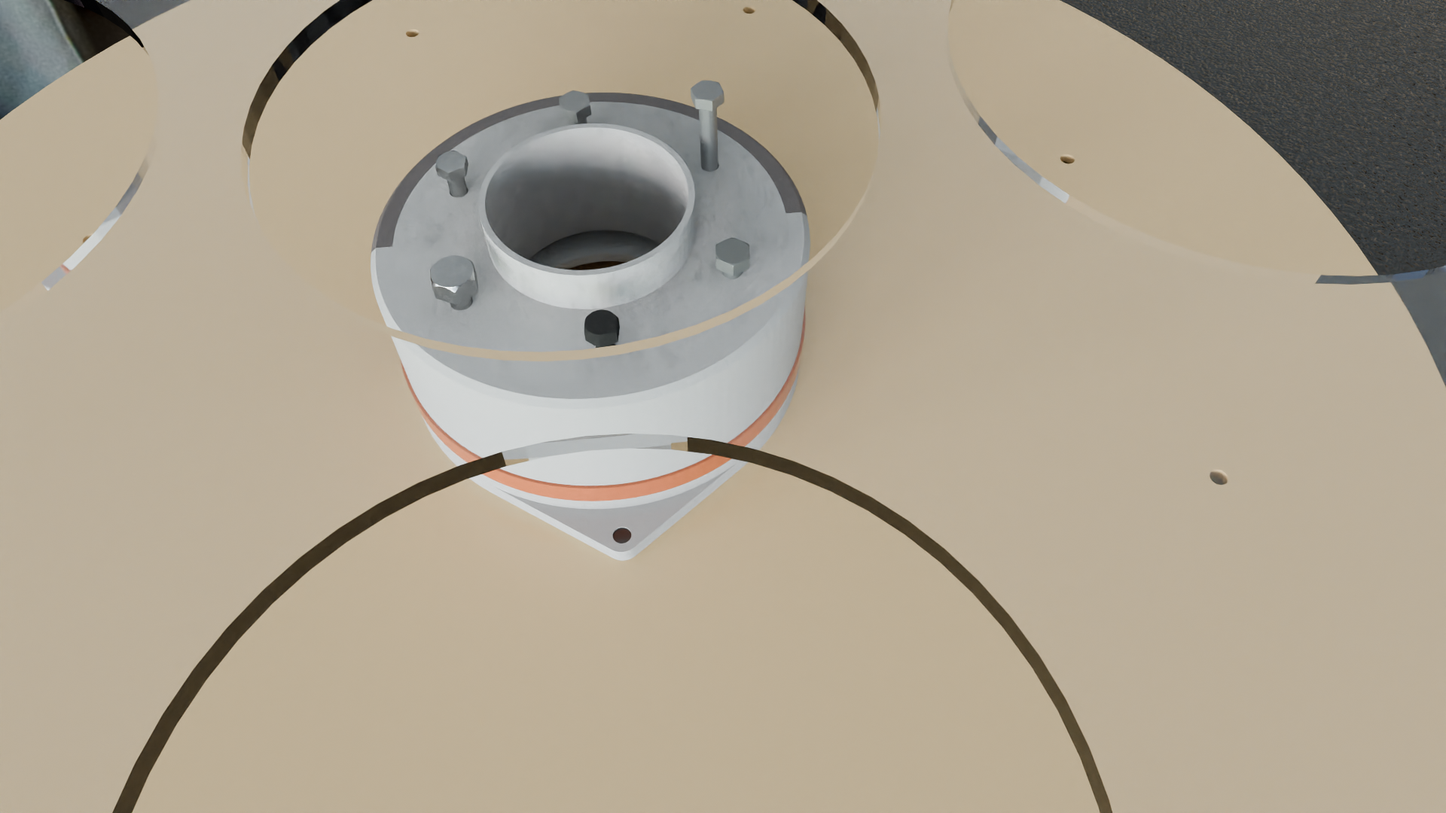bolt: (430, 255, 475, 293), (584, 309, 618, 340), (715, 237, 750, 266), (559, 90, 590, 113), (691, 81, 724, 102), (435, 151, 466, 173)
